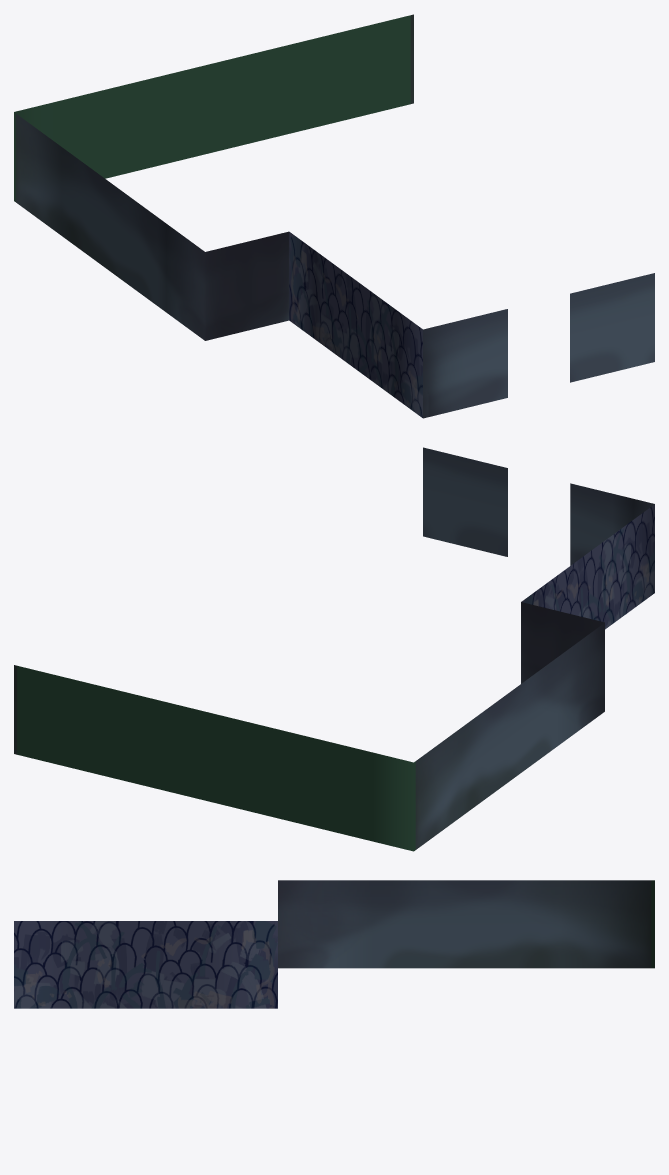
The model's file is Paredes.fbx.
3 views of the same model, one above another, from view 1: azimuth 30°, elevation 25°; view 2: azimuth 150°, elevation 25°; view 3: azimuth 270°, elevation 25° (orthographic).
Parts seen in each view (by area): view 1: Paredes; view 2: Paredes; view 3: Paredes.
Part boxes in pixels (x1,y1,x2,y2): Paredes: (14,14,654,418); Paredes: (14,447,654,851); Paredes: (14,880,654,1008).
Bounding box in the file's own units: 1949 × 2745 × 415.
